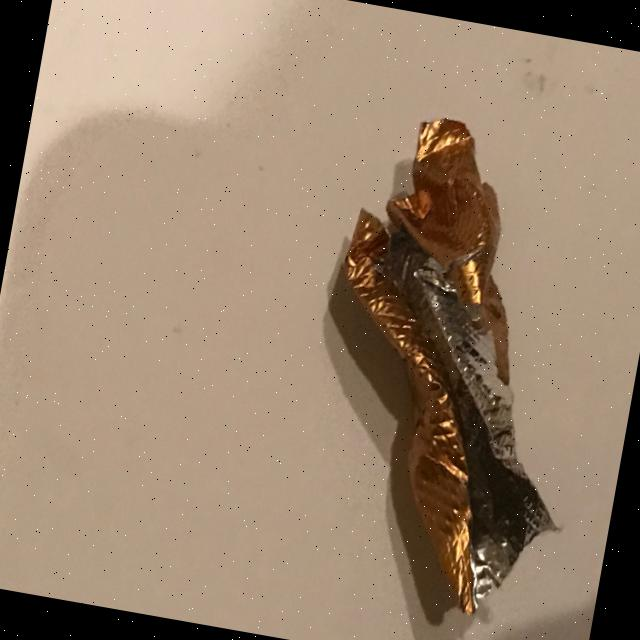metal: (232, 89, 640, 640)
